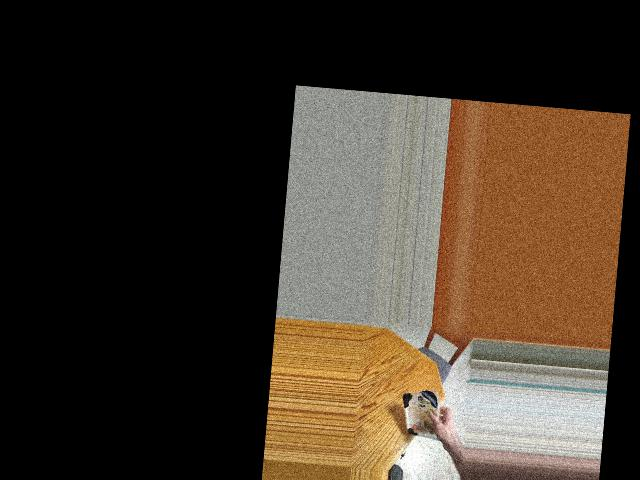cheese: (401, 386, 445, 448)
